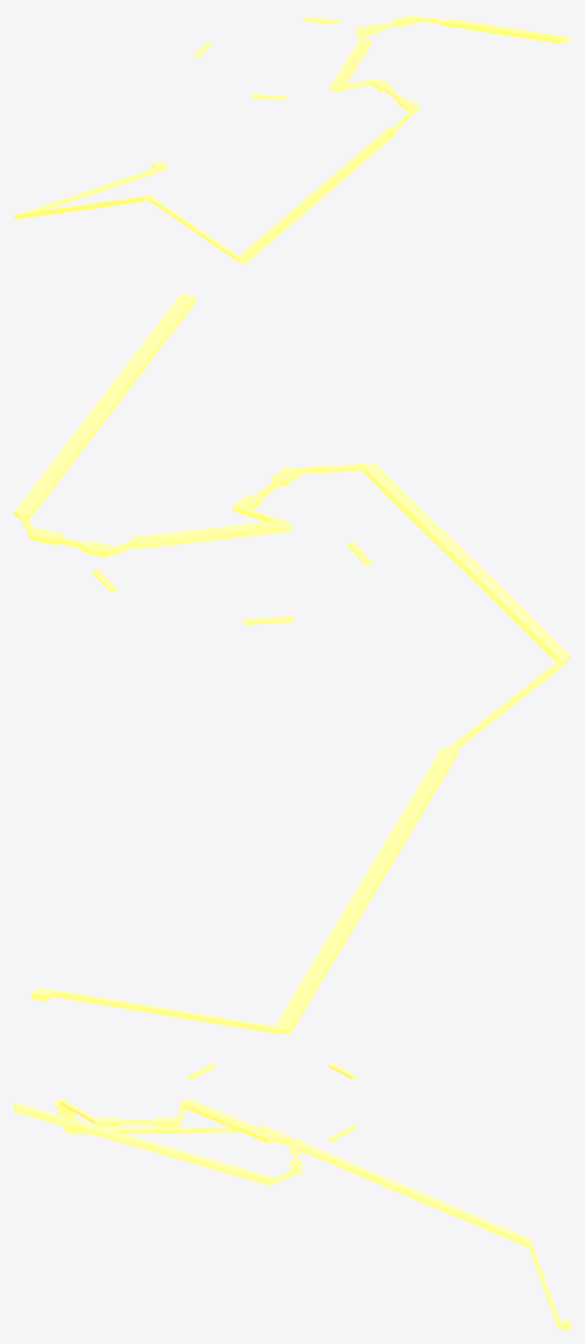
The model's file is hall_ov_route.glb.
3 views of the same model, one above another, from view 1: azimuth 30°, elevation 25°; view 2: azimuth 150°, elevation 25°; view 3: azimuth 270°, elevation 25° (orthographic). The views are drawn at different scales.
Visible parts, largest first — view 1: hall_ov_route; view 2: hall_ov_route; view 3: hall_ov_route.
Boxes of the visible parts, x1=… form: hall_ov_route: x1=14, y1=14, x2=570, y2=264; hall_ov_route: x1=14, y1=293, x2=570, y2=1034; hall_ov_route: x1=14, y1=1063, x2=570, y2=1329.
Bounding box in the file's own units: 33.6 × 28.4 × 47.59.
